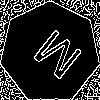M: (25, 27, 85, 89)
